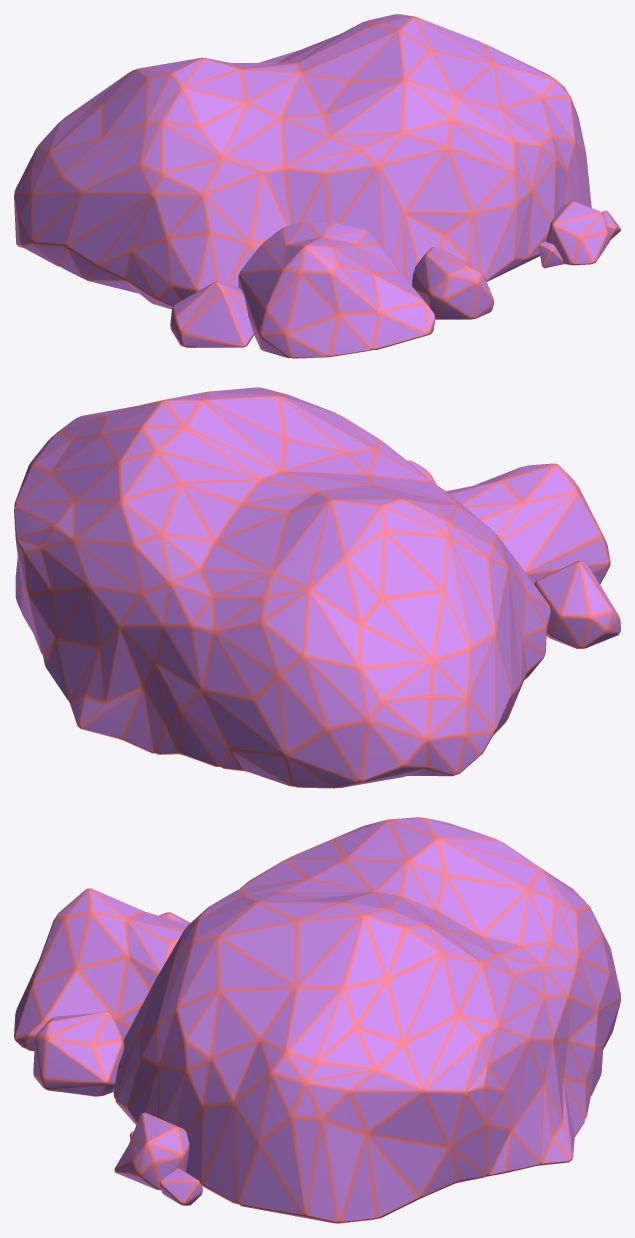
Rendered from BigRock.fbx.
3 views of the same model, one above another, from view 1: azimuth 30°, elevation 25°; view 2: azimuth 150°, elevation 25°; view 3: azimuth 270°, elevation 25° (orthographic). The views are drawn at different scales.
Parts seen in each view (by area): view 1: BigRock; view 2: BigRock; view 3: BigRock.
Part boxes in pixels (box(x1,y1,x2,y2)): BigRock: box(14, 14, 620, 358); BigRock: box(14, 387, 620, 788); BigRock: box(14, 817, 620, 1223).
Size of the model in its own units: 2.48 by 1.09 by 2.34.
